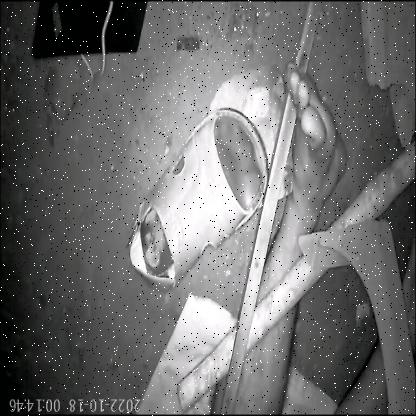leg: (207, 50, 355, 416)
